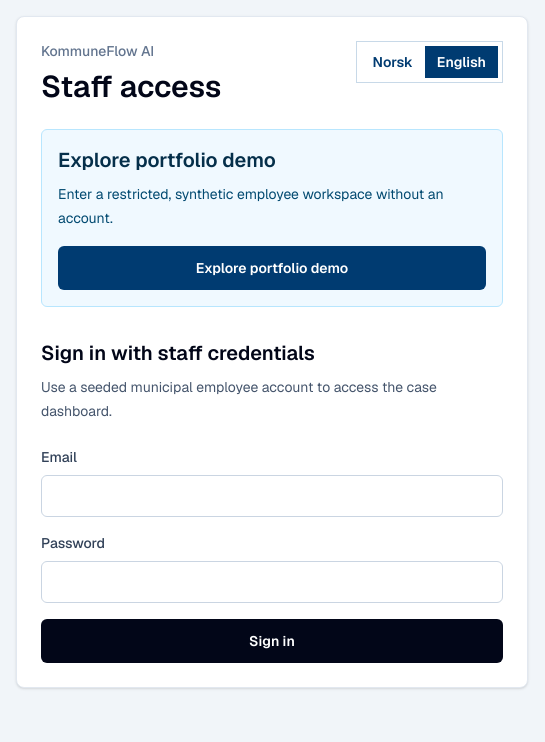
InternalLoginForm › shows a generic login error and does not redirect on failed credentials
This screenshot has width=545, height=742.
Type "worker@example.local" into the field labelled "Email" at point(272, 496), box [41, 475, 503, 517]
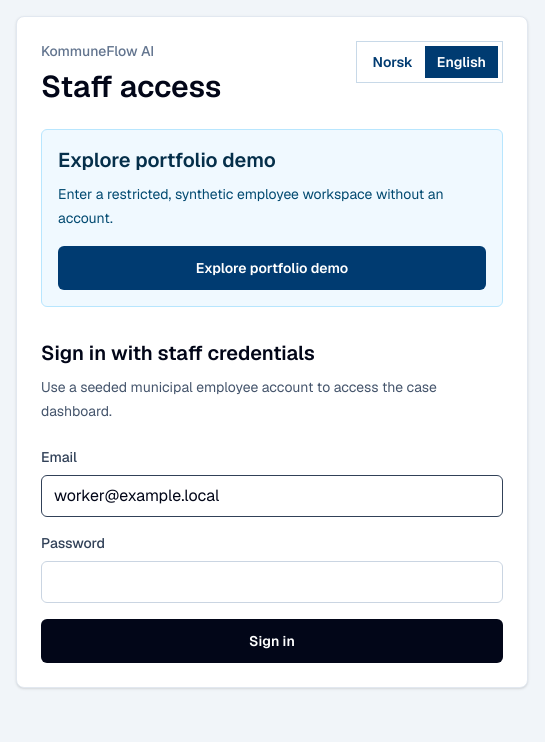
Type "wrong-password" into the password field labelled "Password" at point(272, 582), box [41, 561, 503, 603]
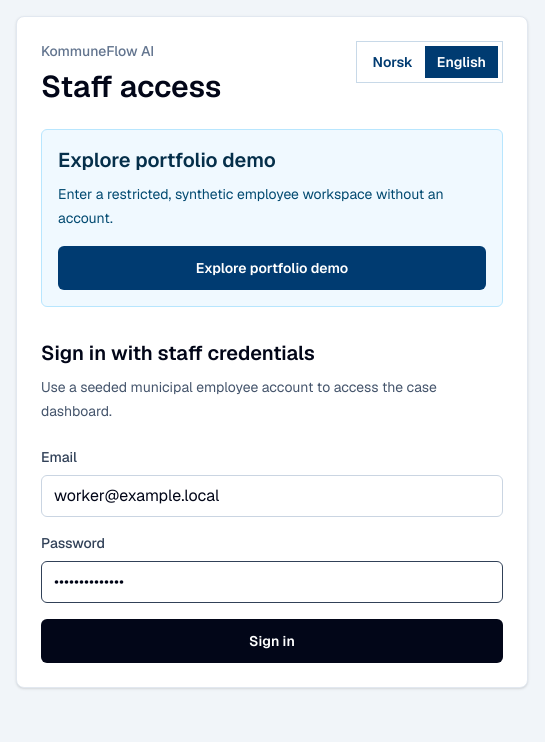
Click the button "Sign in" at point(272, 641), box [41, 619, 503, 663]
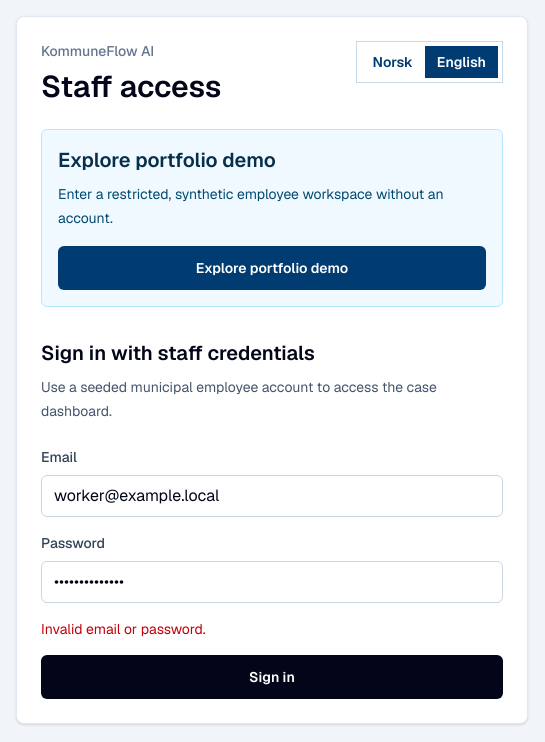
Now the text "Invalid email or password." is shown, box [41, 620, 206, 638]
